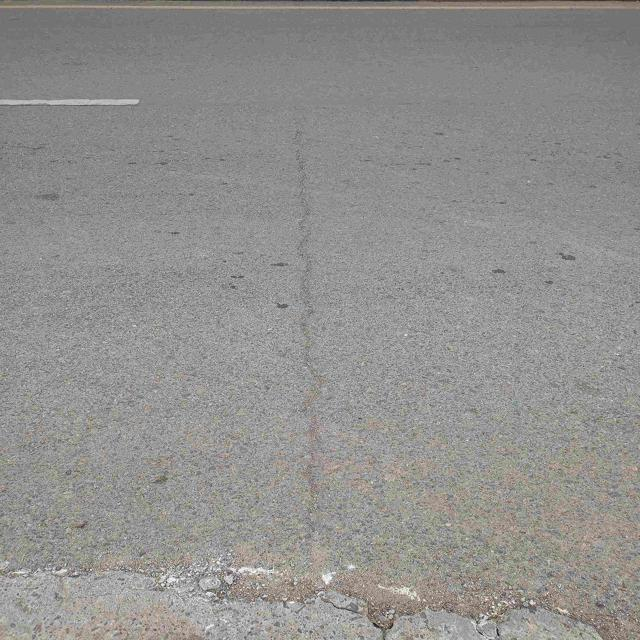Memanjang: (273, 8, 342, 600)
